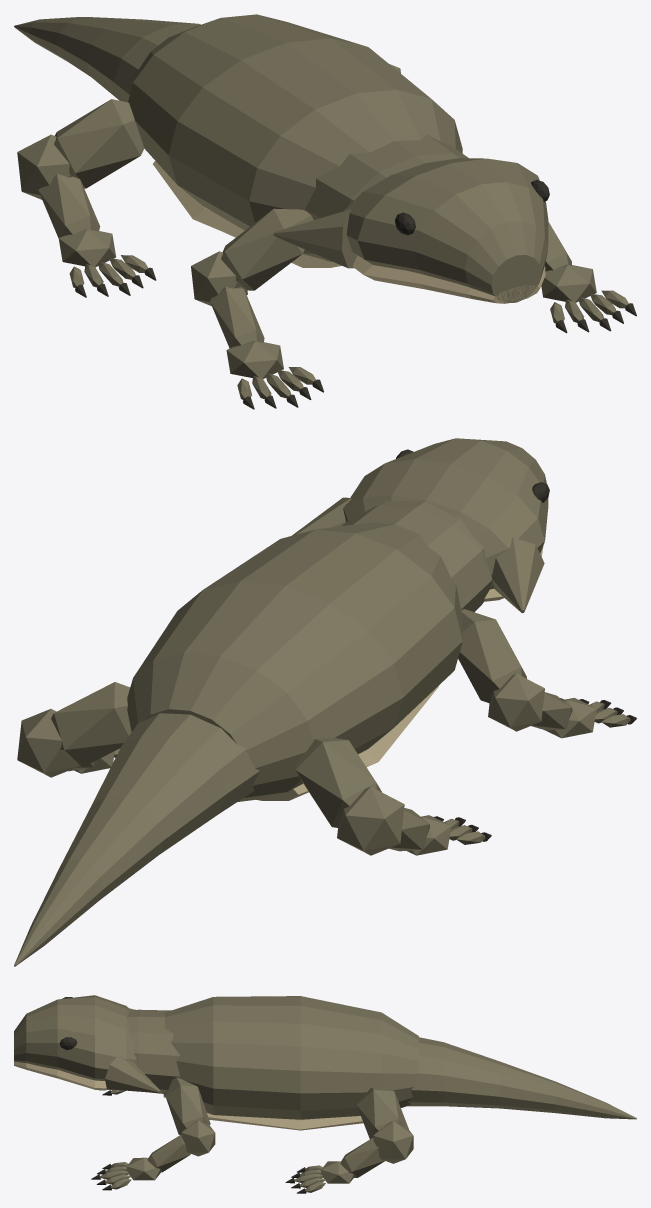
3 renders of one model, top to bottom at view 1: azimuth 30°, elevation 25°; view 2: azimuth 150°, elevation 25°; view 3: azimuth 270°, elevation 25°, orthographic. The views are drawn at different scales.
Parts seen in each view (by area): view 1: surface_earth_olive_brown, surface_warm_underside, surface_eyes_claws; view 2: surface_earth_olive_brown, surface_warm_underside, surface_eyes_claws; view 3: surface_earth_olive_brown, surface_warm_underside, surface_eyes_claws.
Boxes of the visible parts, x1,y1,x2,y2 form: surface_earth_olive_brown: [14, 14, 628, 399]; surface_warm_underside: [153, 161, 545, 303]; surface_eyes_claws: [75, 180, 636, 409]; surface_earth_olive_brown: [14, 438, 630, 966]; surface_warm_underside: [256, 546, 543, 800]; surface_eyes_claws: [396, 449, 636, 841]; surface_earth_olive_brown: [14, 995, 636, 1192]; surface_warm_underside: [14, 1061, 363, 1130]; surface_eyes_claws: [59, 997, 306, 1193].
Size of the model in its own units: 0.476 by 0.227 by 1.
